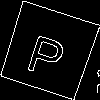P: (23, 25, 71, 80)
